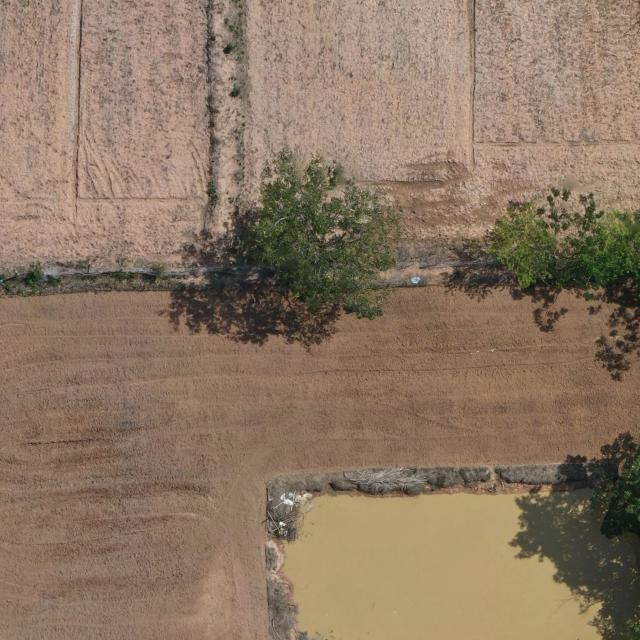Tree: (232, 148, 402, 320), (565, 208, 640, 332), (487, 200, 565, 290), (603, 408, 640, 565)
